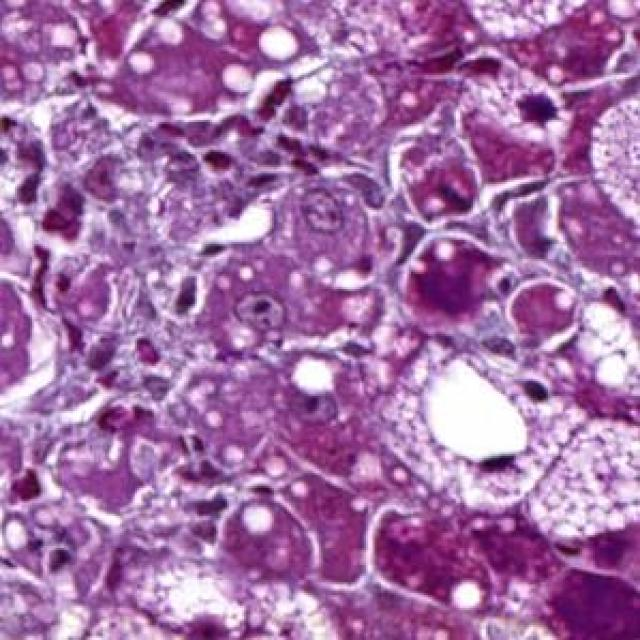ballooning: (372, 342, 588, 518), (475, 64, 578, 165)
